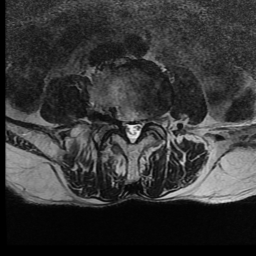CCS_normal: (128, 115, 136, 149)
LFS_stenosis: (144, 108, 152, 131)
LLS_normal: (135, 114, 143, 143)
RFS_severe_stenosis: (112, 107, 120, 132)
RLS_stenosis: (120, 114, 128, 139)
